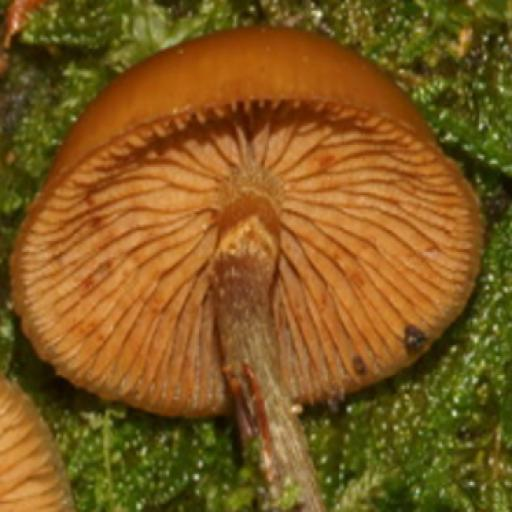mushroom: (19, 28, 492, 449)
